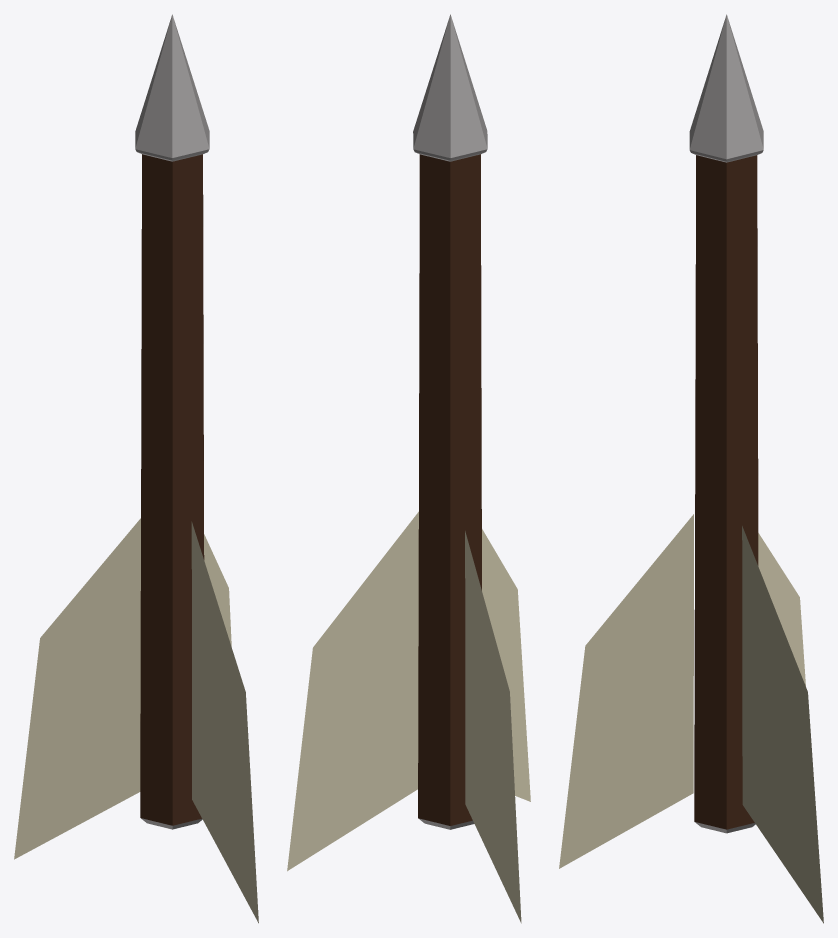
Rendered from LGEDart.fbx.
3 views of the same model, side by side, from view 1: azimuth 30°, elevation 25°; view 2: azimuth 150°, elevation 25°; view 3: azimuth 270°, elevation 25° (orthographic).
Visible parts, largest first — view 1: LGEDart; view 2: LGEDart; view 3: LGEDart.
Boxes of the visible parts, <box> form: LGEDart: <box>14,14,258,923</box>; LGEDart: <box>287,14,530,923</box>; LGEDart: <box>559,14,823,923</box>.
Bounding box in the file's own units: 7.7 × 27.23 × 7.66.
